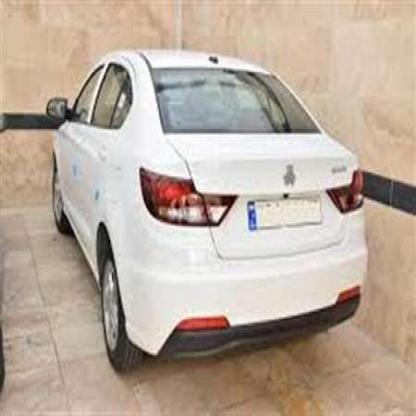Car: (37, 39, 365, 375)
